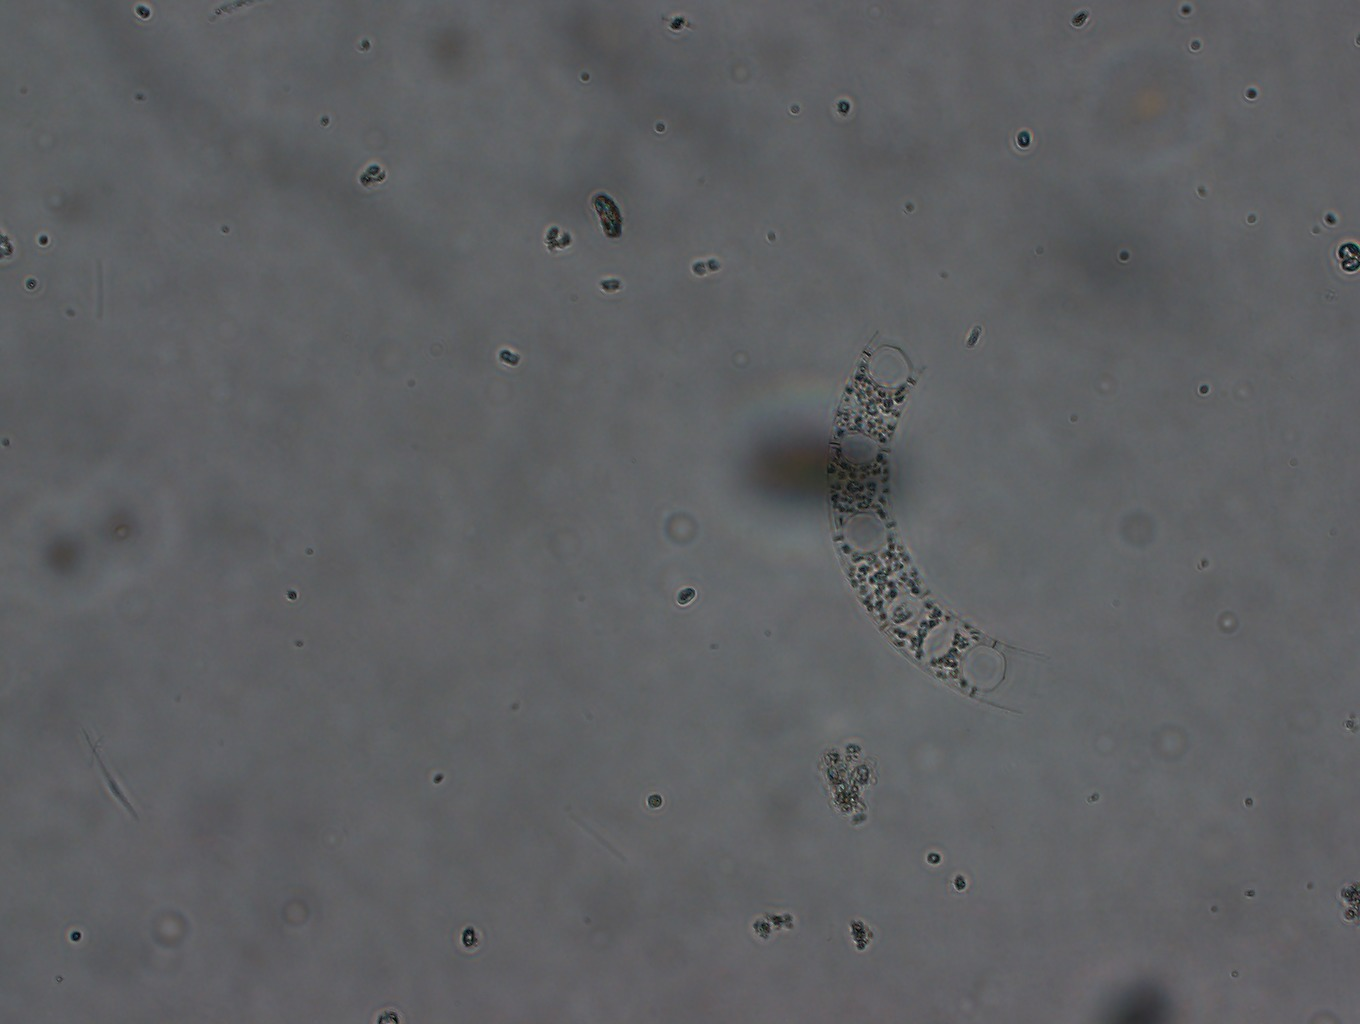eucampia: (817, 315, 1047, 716)
